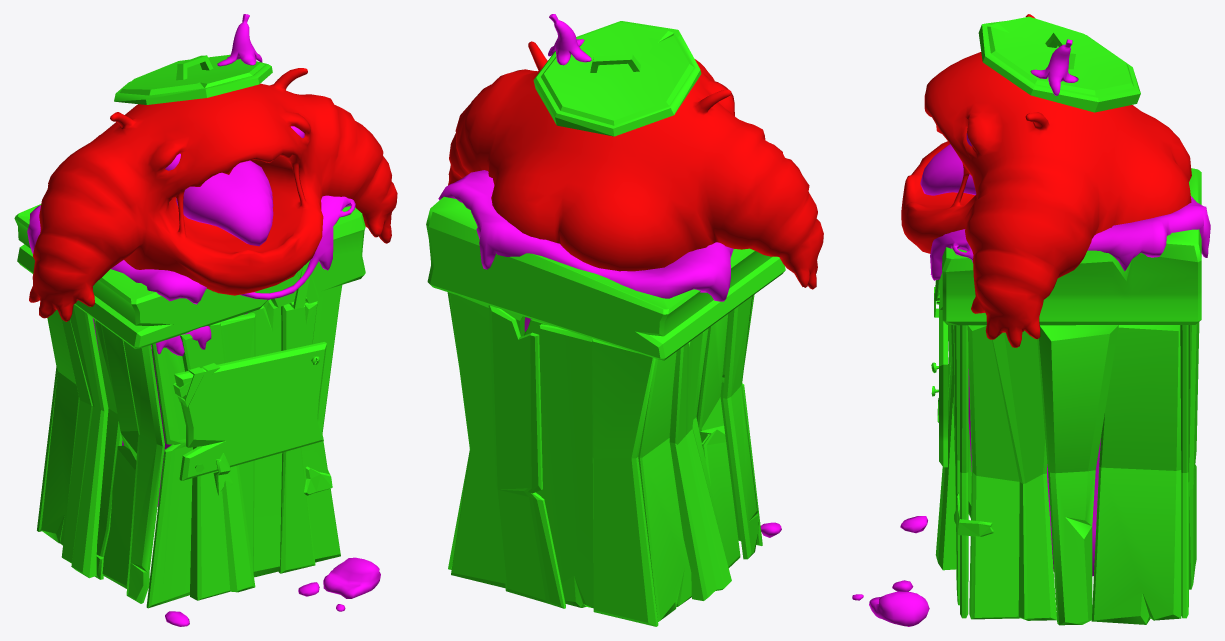
File: SK_GloobyTrash.fbx
The picture shows the model from 3 angles, left to right: view 1: azimuth 30°, elevation 25°; view 2: azimuth 150°, elevation 25°; view 3: azimuth 270°, elevation 25°; orthographic projection. The views are drawn at different scales.
Parts seen in each view (by area): view 1: SK_GloobyBody_low, SM_TrashSign_low, SM_TrashUp_low, SM_TrashPlank_low_004, SM_TrashPlank_low_008, SM_TrashPlank_low_001, SM_TrashPlank_low_005, SM_TrashPlank_low_002, SM_TrashPlank_low_009, SK_GloobyMouth_low, SM_Trash_Lid_low, SM_TrashPlank_low_003 (+8 smaller); view 2: SK_GloobyBody_low, SM_TrashUp_low, SM_TrashPlank_low_014, SM_TrashPlank_low_012, SM_Trash_Lid_low, SM_TrashPlank_low_013, SM_TrashPlank_low_011, SM_Trash_OrganicMass_01_low, SM_TrashPlank_low_007, SM_TrashPlank_low_008, SM_TrashPlank_low_002, SM_TrashPlank_low_009 (+3 smaller); view 3: SK_GloobyBody_low, SM_TrashPlank_low_017, SM_TrashPlank_low_016, SM_TrashPlank_low_015, SM_TrashUp_low, SM_Trash_Lid_low, SM_Trash_OrganicMass_01_low, SM_TrashPlank_low_001, SM_TrashPlank_low_004, SM_TrashPlank_low_011, SM_TrashPlank_low_012, SM_Trash_OrganicMass_02_low (+5 smaller).
Boxes of the visible parts, x1,y1,x2,y2 form: SK_GloobyBody_low: (29,68,397,321); SM_TrashSign_low: (174,342,326,480); SM_TrashUp_low: (14,204,365,348); SM_TrashPlank_low_004: (247,285,341,577); SM_TrashPlank_low_008: (61,304,108,578); SM_TrashPlank_low_001: (180,322,255,600); SM_TrashPlank_low_005: (146,343,192,608); SM_TrashPlank_low_002: (122,340,164,603); SM_TrashPlank_low_009: (102,325,138,588); SK_GloobyMouth_low: (176,160,273,246); SM_Trash_Lid_low: (114,54,272,104); SM_TrashPlank_low_003: (278,301,317,573); SK_GloobyBody_low: (448,41,823,289); SM_TrashUp_low: (426,196,785,360); SM_TrashPlank_low_014: (592,338,658,626); SM_TrashPlank_low_012: (488,305,565,608); SM_Trash_Lid_low: (533,21,701,136); SM_TrashPlank_low_013: (539,324,593,608); SM_TrashPlank_low_011: (449,292,554,588); SM_Trash_OrganicMass_01_low: (438,170,733,331); SM_TrashPlank_low_007: (638,352,691,621); SM_TrashPlank_low_008: (669,332,731,600); SM_TrashPlank_low_002: (723,296,758,559); SM_TrashPlank_low_009: (696,314,740,567); SK_GloobyBody_low: (901,14,1191,347); SM_TrashPlank_low_017: (1091,325,1181,624); SM_TrashPlank_low_016: (967,325,1056,620); SM_TrashPlank_low_015: (1037,325,1118,625); SM_TrashUp_low: (942,168,1201,325); SM_Trash_Lid_low: (978,16,1140,112); SM_Trash_OrganicMass_01_low: (930,195,1210,576); SM_TrashPlank_low_001: (935,325,956,570); SM_TrashPlank_low_004: (960,325,968,618); SM_TrashPlank_low_011: (1180,325,1188,618); SM_TrashPlank_low_012: (1188,322,1199,589); SM_Trash_OrganicMass_02_low: (852,516,929,626).
Size of the model in its own units: 1.08 by 1.53 by 0.884.
